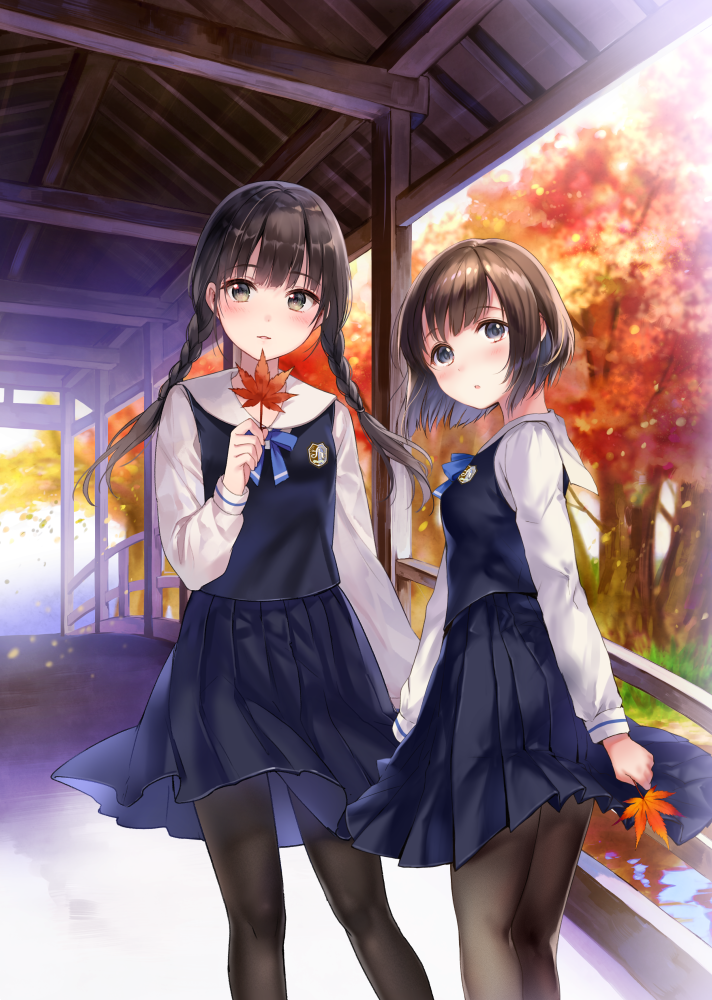纸片人正脸: (389, 230, 576, 421), (184, 176, 358, 367)
